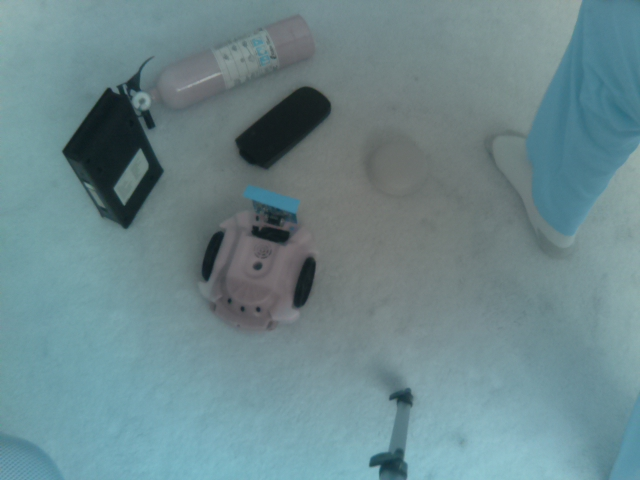board: (238, 177, 301, 222)
chassis: (192, 180, 319, 344)
